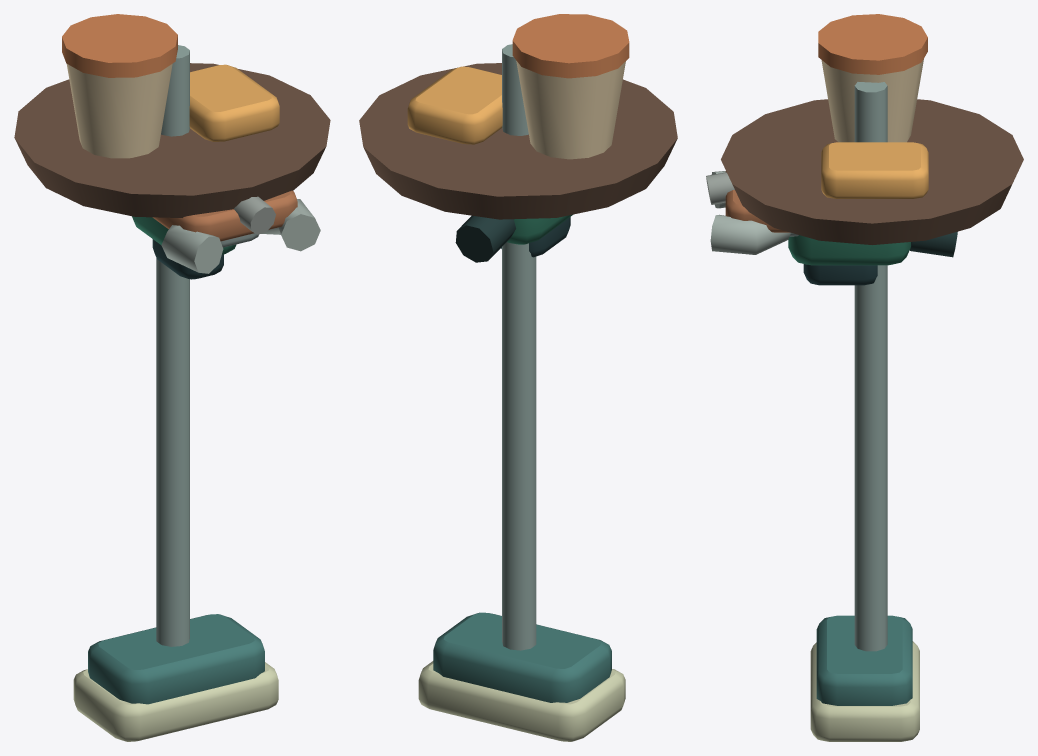
Rendered from hand_props.glb.
The picture shows the model from 3 angles, left to right: view 1: azimuth 30°, elevation 25°; view 2: azimuth 150°, elevation 25°; view 3: azimuth 270°, elevation 25°; orthographic projection. The views are drawn at different scales.
Parts seen in each view (by area): view 1: Tray, Mop, Spanner, Nozzle, Clipboard; view 2: Tray, Mop, Nozzle; view 3: Tray, Mop, Nozzle, Spanner, Clipboard.
Part boxes in pixels (bbox=[...]): Tray: bbox=[14, 14, 330, 217]; Mop: bbox=[73, 45, 278, 741]; Spanner: bbox=[161, 199, 320, 273]; Nozzle: bbox=[132, 196, 275, 279]; Clipboard: bbox=[152, 190, 297, 241]; Tray: bbox=[359, 14, 677, 219]; Mop: bbox=[418, 44, 625, 741]; Nozzle: bbox=[455, 214, 573, 262]; Tray: bbox=[721, 14, 1023, 244]; Mop: bbox=[810, 82, 919, 741]; Nozzle: bbox=[706, 172, 957, 285]; Spanner: bbox=[710, 171, 798, 254]; Clipboard: bbox=[725, 171, 789, 232].
Size of the model in its own units: 0.48 by 1.13 by 0.5033.
